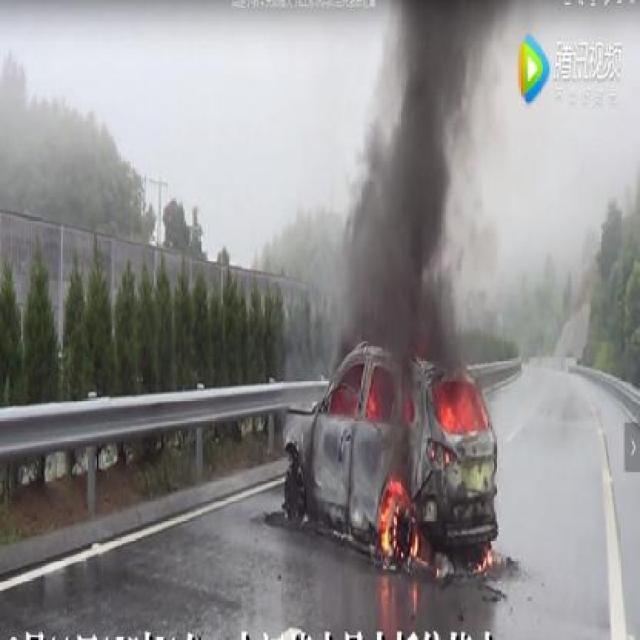Fire: (328, 356, 498, 437), (364, 466, 420, 565), (474, 541, 496, 578), (441, 451, 465, 466)
Smoke: (352, 7, 496, 340)
